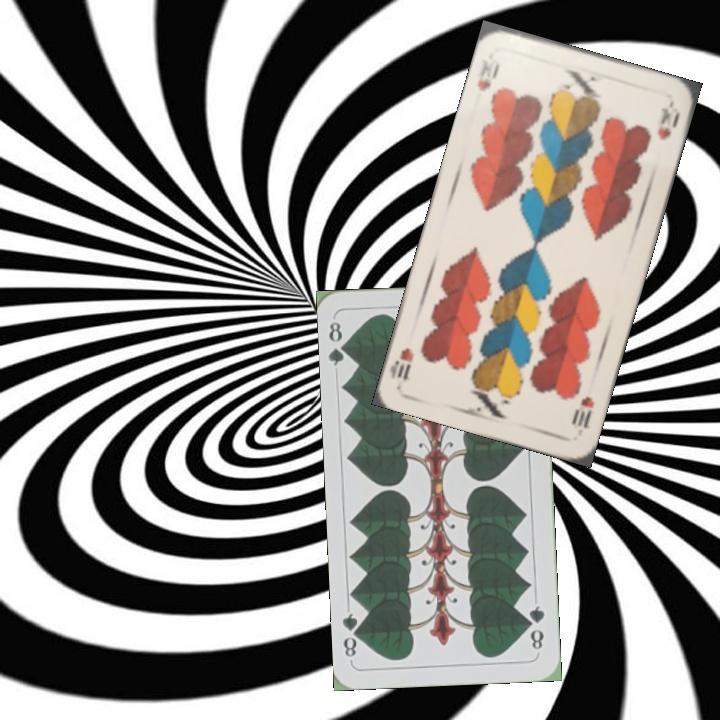G8: (324, 318, 353, 368), (523, 601, 547, 652)
H10: (567, 392, 597, 431), (473, 55, 502, 94)
